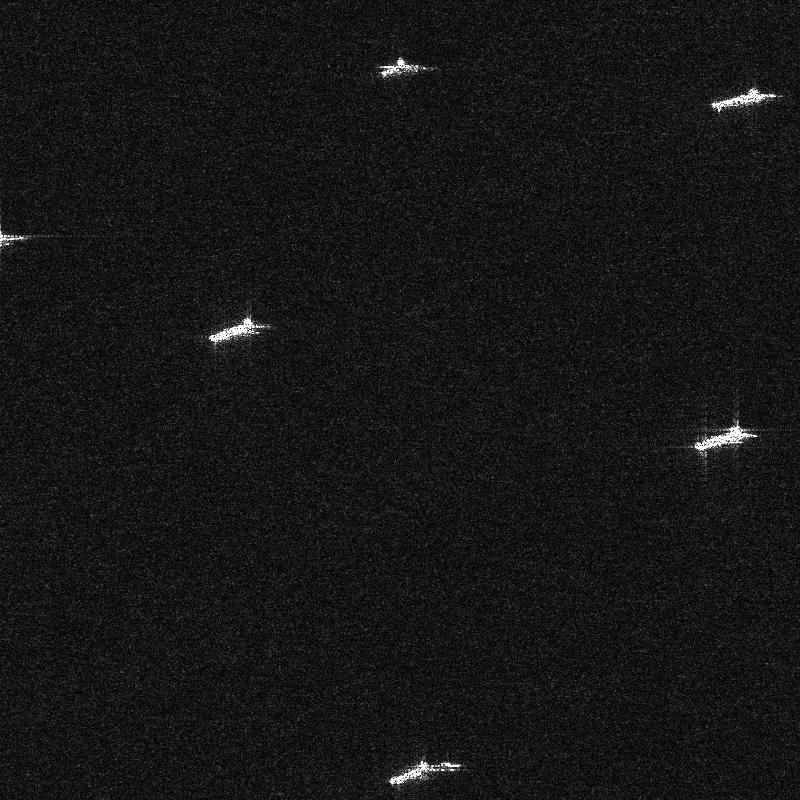ship: (693, 426, 757, 452), (711, 88, 776, 112), (208, 317, 267, 342), (380, 57, 430, 78), (389, 761, 432, 785)
